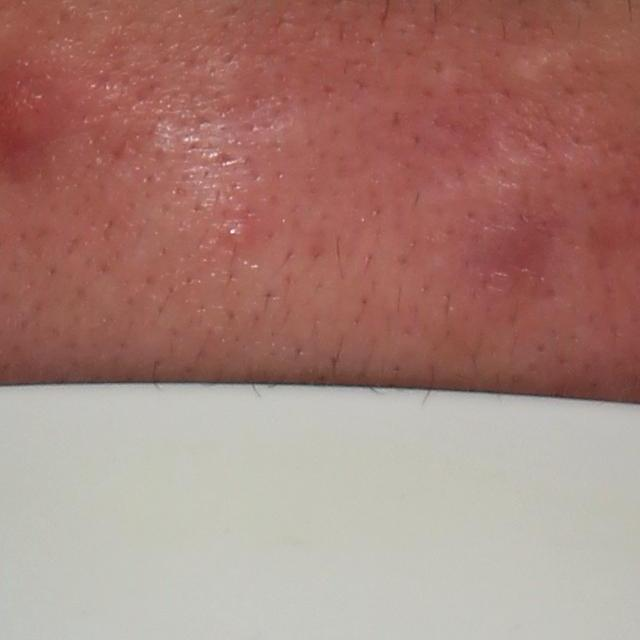hypertrophic_scar: (470, 33, 579, 93)
